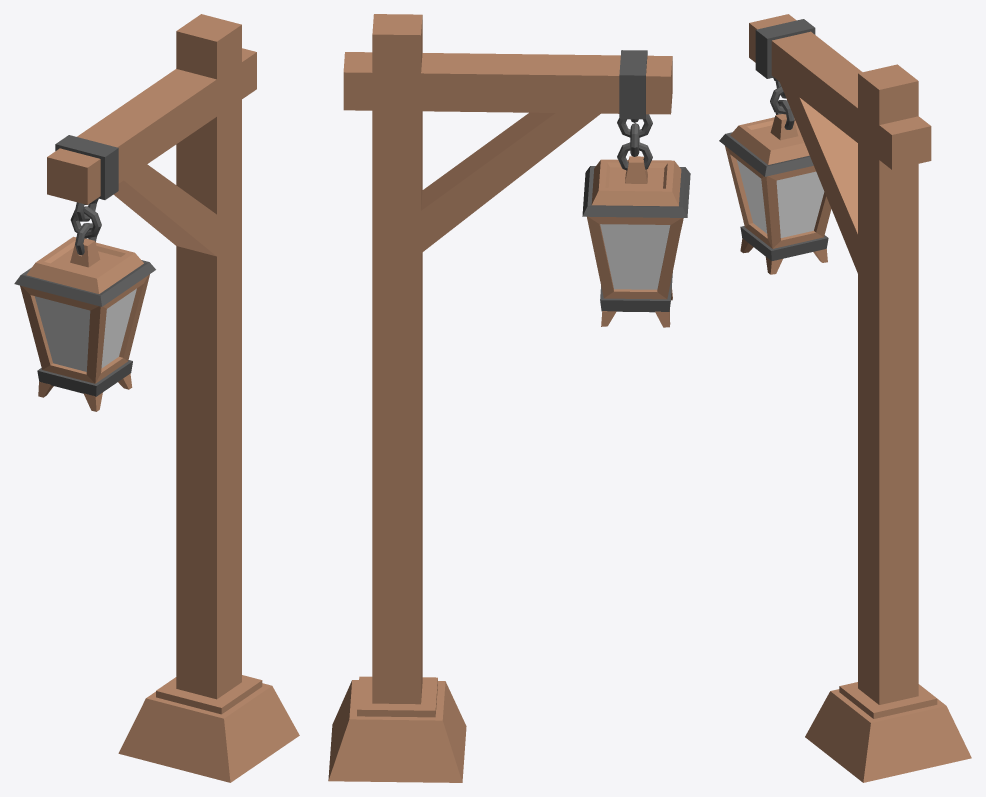
Rendered from felinar.obj.
3 views of the same model, side by side, from view 1: azimuth 30°, elevation 25°; view 2: azimuth 150°, elevation 25°; view 3: azimuth 270°, elevation 25° (orthographic). The views are drawn at different scales.
Visible parts, largest first — view 1: felinar_Box.003, felinar_Grey.002, felinar_Lantern_glass.002; view 2: felinar_Box.003, felinar_Grey.002, felinar_Lantern_glass.002; view 3: felinar_Box.003, felinar_Grey.002, felinar_Lantern_glass.002.
Boxes of the visible parts, x1,y1,x2,y2 form: felinar_Box.003: (20,14,299,782); felinar_Grey.002: (14,135,155,396); felinar_Lantern_glass.002: (34,288,136,371); felinar_Box.003: (328,14,683,782); felinar_Grey.002: (582,50,690,312); felinar_Lantern_glass.002: (600,224,670,289); felinar_Box.003: (725,14,971,782); felinar_Grey.002: (719,19,828,260); felinar_Lantern_glass.002: (737,160,824,237).
Bounding box in the file's own units: 4.66 × 10.05 × 3.44.
